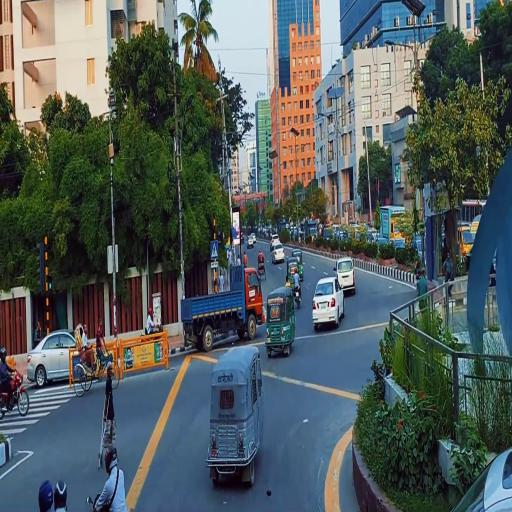car: (26, 328, 79, 389), (313, 275, 348, 337), (334, 254, 357, 295), (271, 243, 286, 266)
motorbike: (1, 368, 30, 419)
pickup: (179, 262, 266, 355)
rickshaw: (71, 319, 122, 404), (257, 249, 268, 286)
three wheelers (CNG): (205, 345, 266, 496), (266, 281, 297, 362), (292, 248, 306, 281), (287, 256, 299, 283)
